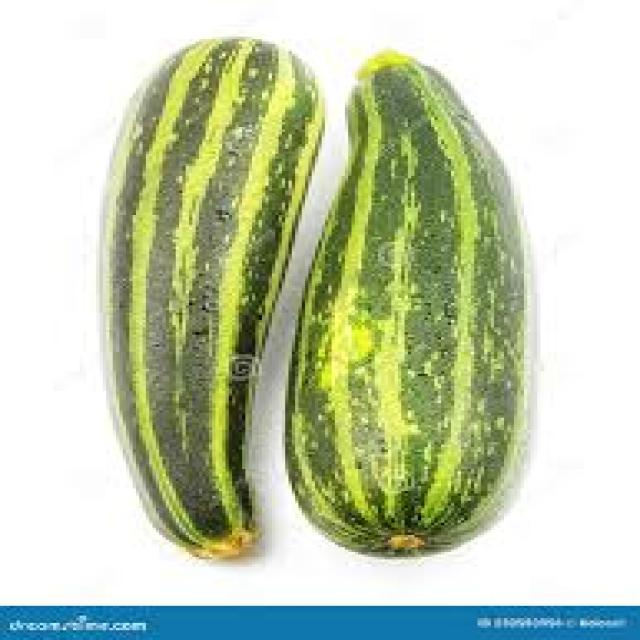Zucchini: (312, 62, 509, 560)
